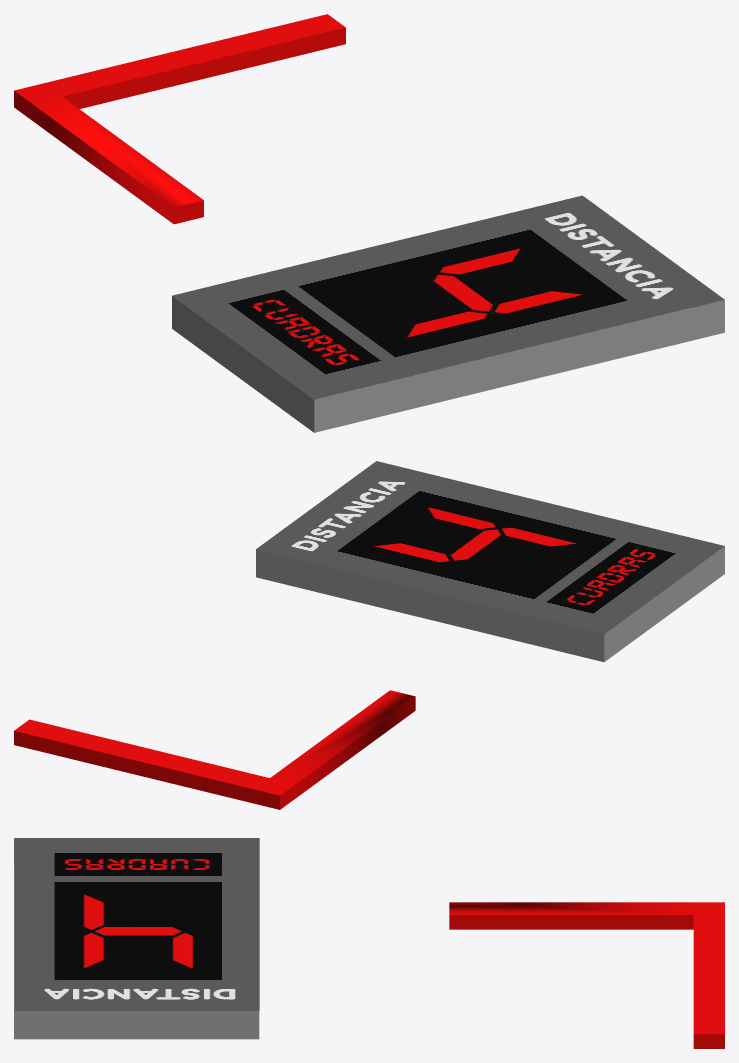
The model's file is 4_cuadras.fbx.
3 renders of one model, top to bottom at view 1: azimuth 30°, elevation 25°; view 2: azimuth 150°, elevation 25°; view 3: azimuth 270°, elevation 25°, orthographic. The views are drawn at different scales.
Parts seen in each view (by area): view 1: polySurface62; view 2: polySurface62; view 3: polySurface62.
Part boxes in pixels (bbox=[...]): polySurface62: bbox=[14, 14, 724, 432]; polySurface62: bbox=[14, 461, 724, 809]; polySurface62: bbox=[14, 838, 724, 1048].
Size of the model in its own units: 25.91 by 2.13 by 43.47.
3 materials, 2 textured.
